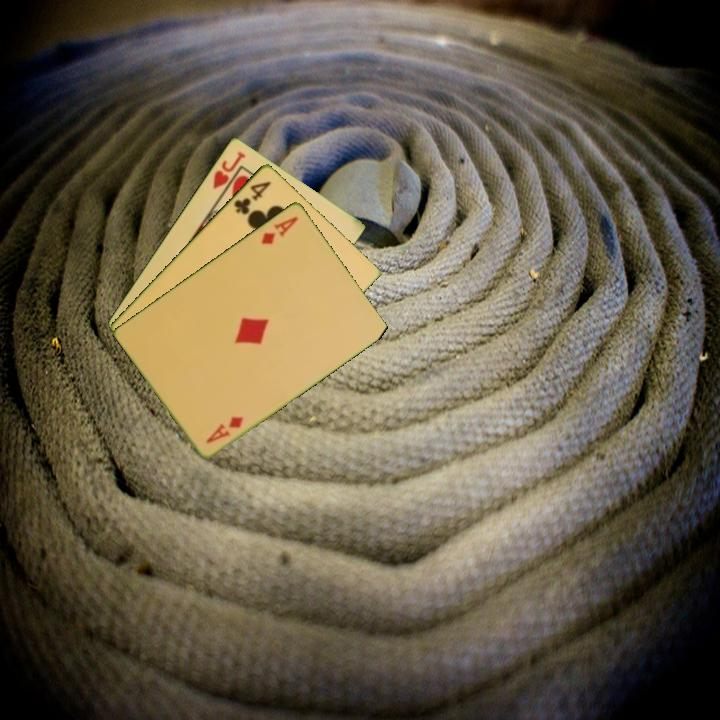4c: (230, 177, 274, 217)
Ad: (258, 212, 301, 247), (202, 412, 246, 446)
Jh: (209, 147, 248, 200)
